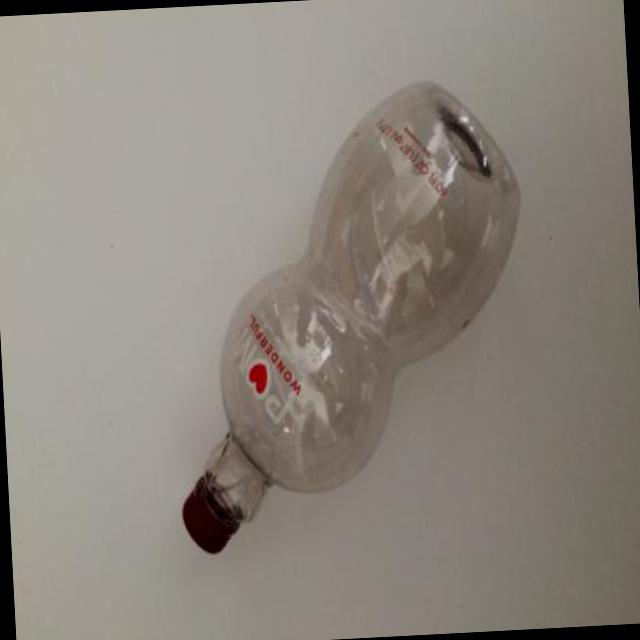Recycle: (158, 68, 540, 558)
